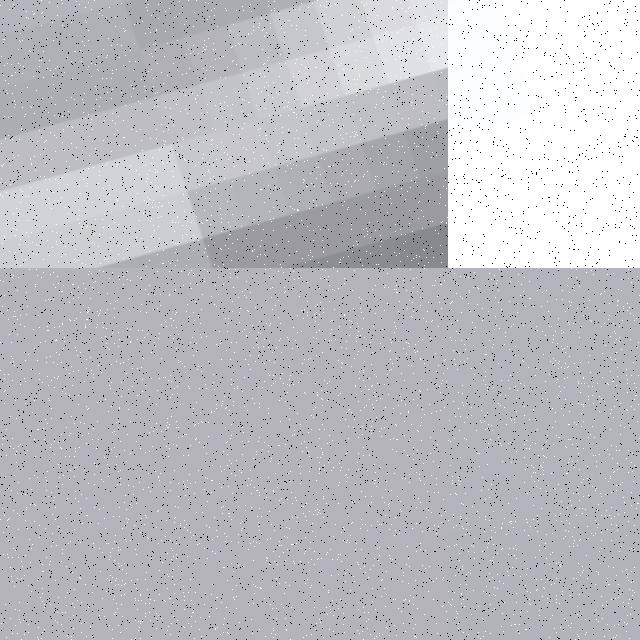0: (0, 0, 448, 268)
drone: (448, 0, 640, 268)
